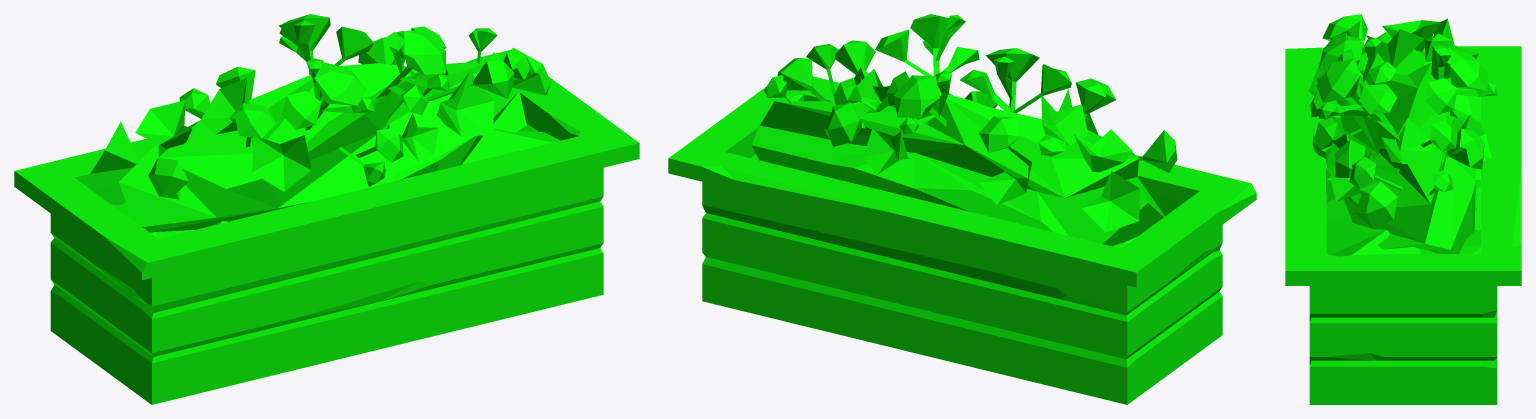
Rendered from SM_Flower_Box_Wooden_Wide_Street_B_Fantasy.fbx.
3 renders of one model, left to right at view 1: azimuth 30°, elevation 25°; view 2: azimuth 150°, elevation 25°; view 3: azimuth 270°, elevation 25°, orthographic. The views are drawn at different scales.
Visible parts, largest first — view 1: flower-box-wooden-wide-street-b-fantasy; view 2: flower-box-wooden-wide-street-b-fantasy; view 3: flower-box-wooden-wide-street-b-fantasy.
Part boxes in pixels (<box>): flower-box-wooden-wide-street-b-fantasy: <box>14,14,639,404</box>; flower-box-wooden-wide-street-b-fantasy: <box>668,14,1256,404</box>; flower-box-wooden-wide-street-b-fantasy: <box>1285,14,1521,404</box>.
Bounding box in the file's own units: 1.3 × 0.7285 × 0.5791.
